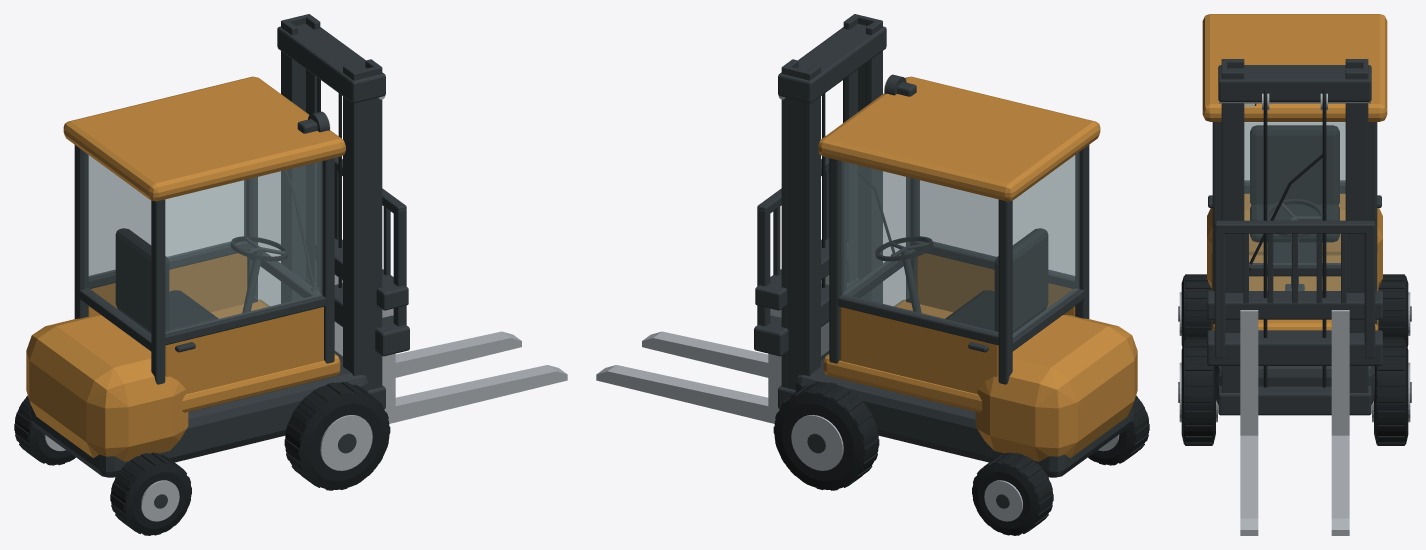
The model's file is A-NEW-20261026-COUNTERBALANCE-FORKLIFT-001_LOD1_R2.glb.
3 views of the same model, side by side, from view 1: azimuth 30°, elevation 25°; view 2: azimuth 150°, elevation 25°; view 3: azimuth 270°, elevation 25° (orthographic).
Visible parts, largest first — view 1: side captured glass, cab roof, curved rear counterweight, side captured glass.001, rear captured windshield, door lower panel, vehicle chassis, front captured windshield, treaded tire, mast channel web, mast channel flange, L fork and tapered tine (+26 smaller); view 2: side captured glass.001, cab roof, curved rear counterweight, side captured glass, rear captured windshield, door lower panel.001, vehicle chassis, front captured windshield, treaded tire.001, mast channel web.001, mast channel flange.002, L fork and tapered tine.001 (+26 smaller); view 3: cab roof, front captured windshield, seat back, mast crossbeam.001, mast channel flange.001, mast channel flange.003, carriage lower crossbar, L fork and tapered tine, L fork and tapered tine.001, carriage upper crossbar, mast crossbeam, cab floor (+24 smaller).
Boxes of the visible parts, left/top/right/bottom form: side captured glass: left=165, top=161, right=322, bottom=333; cab roof: left=63, top=76, right=345, bottom=201; curved rear counterweight: left=26, top=315, right=188, bottom=461; side captured glass.001: left=89, top=156, right=245, bottom=277; rear captured windshield: left=84, top=152, right=150, bottom=337; door lower panel: left=165, top=307, right=323, bottom=394; vehicle chassis: left=29, top=351, right=368, bottom=477; front captured windshield: left=254, top=162, right=320, bottom=306; treaded tire: left=285, top=382, right=389, bottom=489; mast channel web: left=354, top=66, right=379, bottom=389; mast channel flange: left=343, top=65, right=359, bottom=376; L fork and tapered tine: left=382, top=308, right=567, bottom=423; side captured glass.001: left=841, top=161, right=998, bottom=333; cab roof: left=818, top=76, right=1100, bottom=201; curved rear counterweight: left=975, top=315, right=1137, bottom=461; side captured glass: left=918, top=156, right=1074, bottom=277; rear captured windshield: left=1013, top=152, right=1079, bottom=337; door lower panel.001: left=840, top=307, right=998, bottom=394; vehicle chassis: left=795, top=351, right=1134, bottom=477; front captured windshield: left=843, top=162, right=909, bottom=306; treaded tire.001: left=774, top=382, right=878, bottom=489; mast channel web.001: left=784, top=66, right=808, bottom=389; mast channel flange.002: left=804, top=65, right=820, bottom=376; L fork and tapered tine.001: left=596, top=308, right=781, bottom=423; cab roof: left=1202, top=14, right=1387, bottom=121; front captured windshield: left=1244, top=122, right=1345, bottom=290; seat back: left=1250, top=125, right=1339, bottom=204; mast crossbeam.001: left=1218, top=65, right=1371, bottom=101; mast channel flange.001: left=1221, top=70, right=1244, bottom=392; mast channel flange.003: left=1345, top=70, right=1368, bottom=392; carriage lower crossbar: left=1207, top=330, right=1382, bottom=365; L fork and tapered tine: left=1240, top=310, right=1258, bottom=535; L fork and tapered tine.001: left=1331, top=310, right=1349, bottom=535; carriage upper crossbar: left=1207, top=291, right=1382, bottom=319; mast crossbeam: left=1218, top=385, right=1371, bottom=415; cab floor: left=1211, top=252, right=1378, bottom=330.
Bounding box in the file's own units: 3.42 × 2.68 × 1.43.
